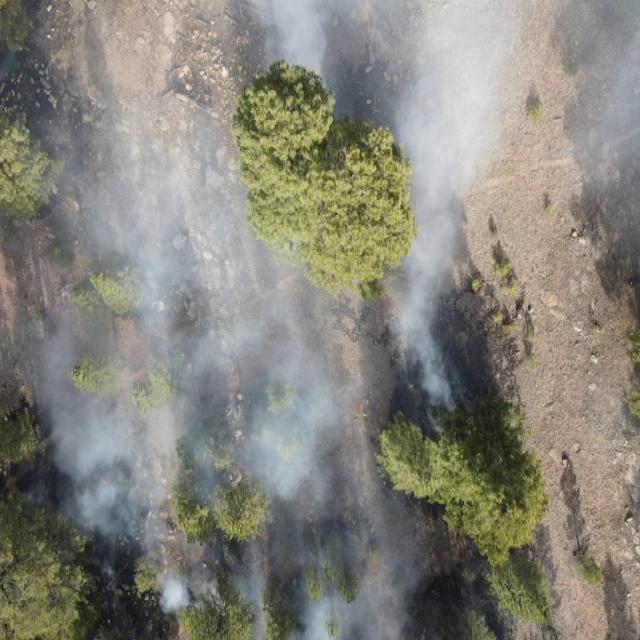fire: (99, 471, 112, 488)
smoke: (0, 0, 462, 541), (462, 0, 640, 289), (96, 540, 564, 640)
